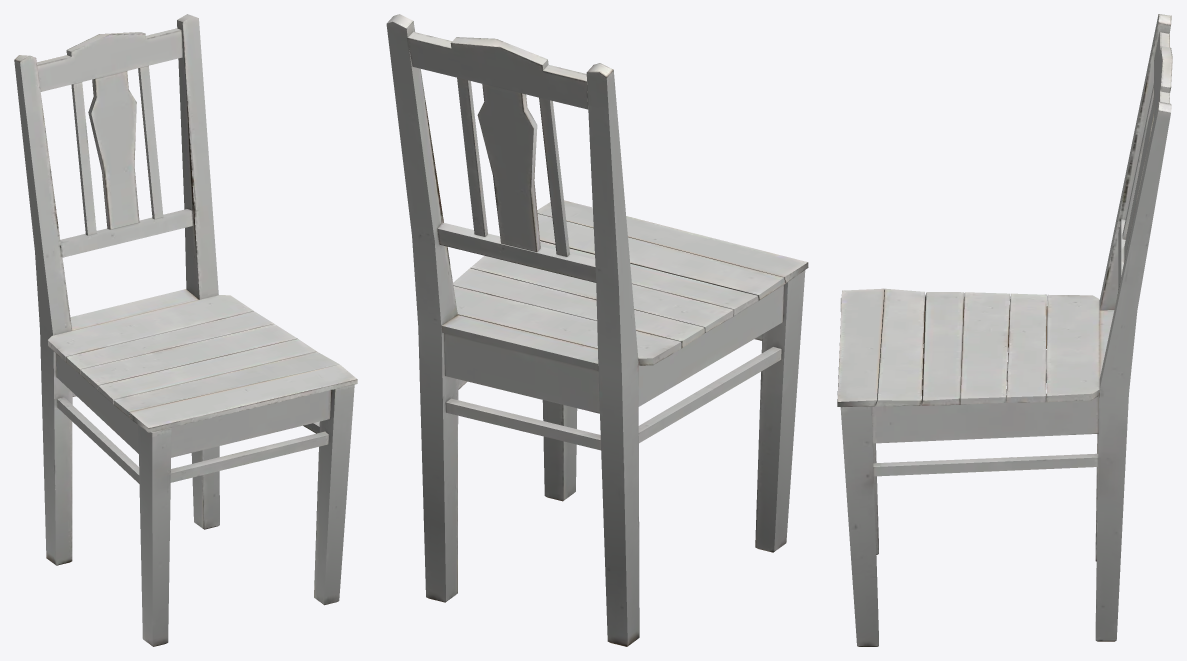
The model's file is painted_wooden_chair_01.glb.
3 views of the same model, side by side, from view 1: azimuth 30°, elevation 25°; view 2: azimuth 150°, elevation 25°; view 3: azimuth 270°, elevation 25° (orthographic). The views are drawn at different scales.
Parts seen in each view (by area): view 1: painted_wooden_chair_01; view 2: painted_wooden_chair_01; view 3: painted_wooden_chair_01.
Boxes of the visible parts, left/top/right/bottom form: painted_wooden_chair_01: left=14, top=14, right=357, bottom=646; painted_wooden_chair_01: left=386, top=14, right=808, bottom=646; painted_wooden_chair_01: left=837, top=14, right=1172, bottom=646.
Bounding box in the file's own units: 0.4238 × 0.9558 × 0.5384.
Materials: 1 (1 with a texture image).
